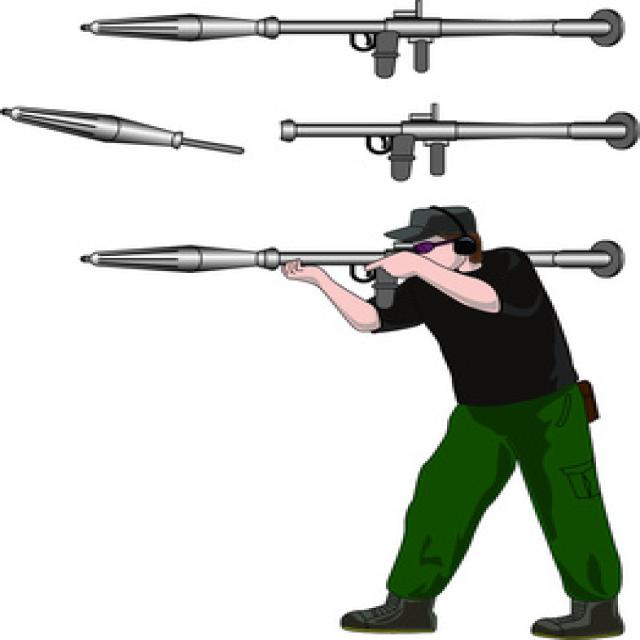bazooka: (77, 3, 630, 80), (78, 229, 640, 295), (79, 258, 271, 283)
